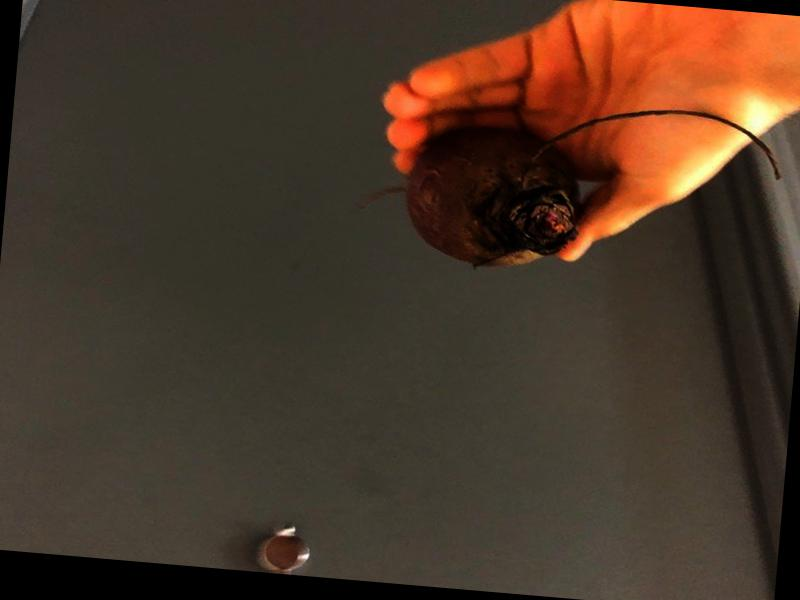Beet: (356, 82, 783, 289)
